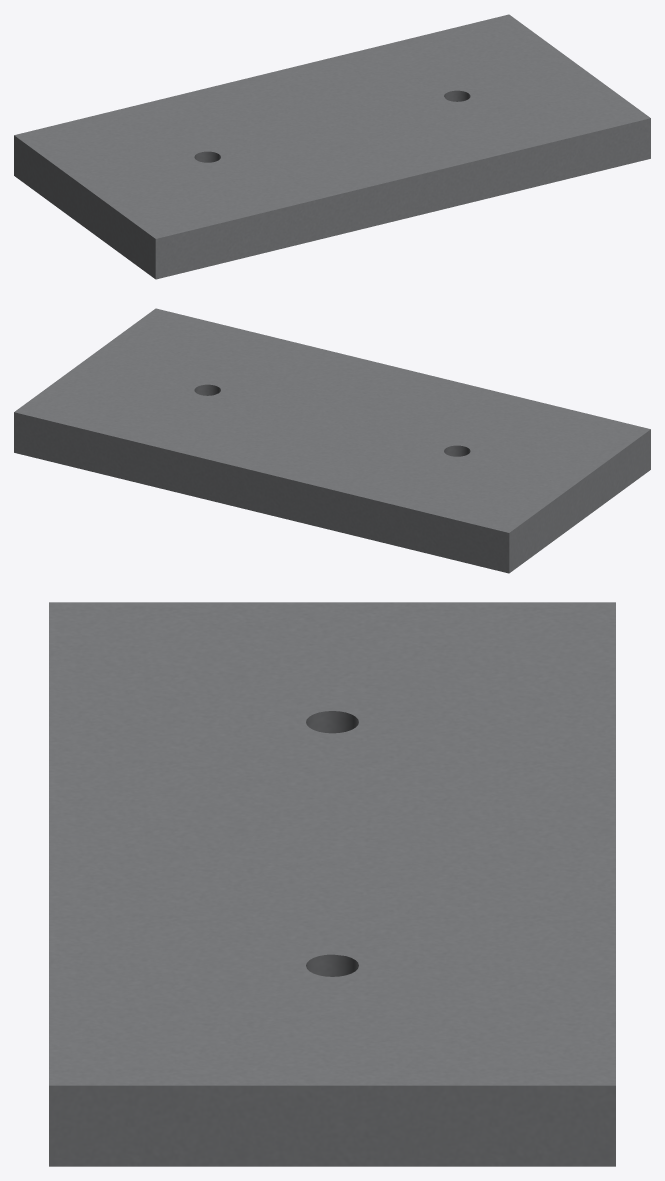
File: quarry-frame-liner.glb
3 renders of one model, top to bottom at view 1: azimuth 30°, elevation 25°; view 2: azimuth 150°, elevation 25°; view 3: azimuth 270°, elevation 25°, orthographic. The views are drawn at different scales.
Parts seen in each view (by area): view 1: metal; view 2: metal; view 3: metal.
Boxes of the visible parts, <box> form: metal: <box>14,14,650,279</box>; metal: <box>14,308,650,573</box>; metal: <box>49,602,615,1166</box>.
Size of the model in its own units: 0.377 by 0.03 by 0.187.
Materials: 1 (1 with a texture image).
